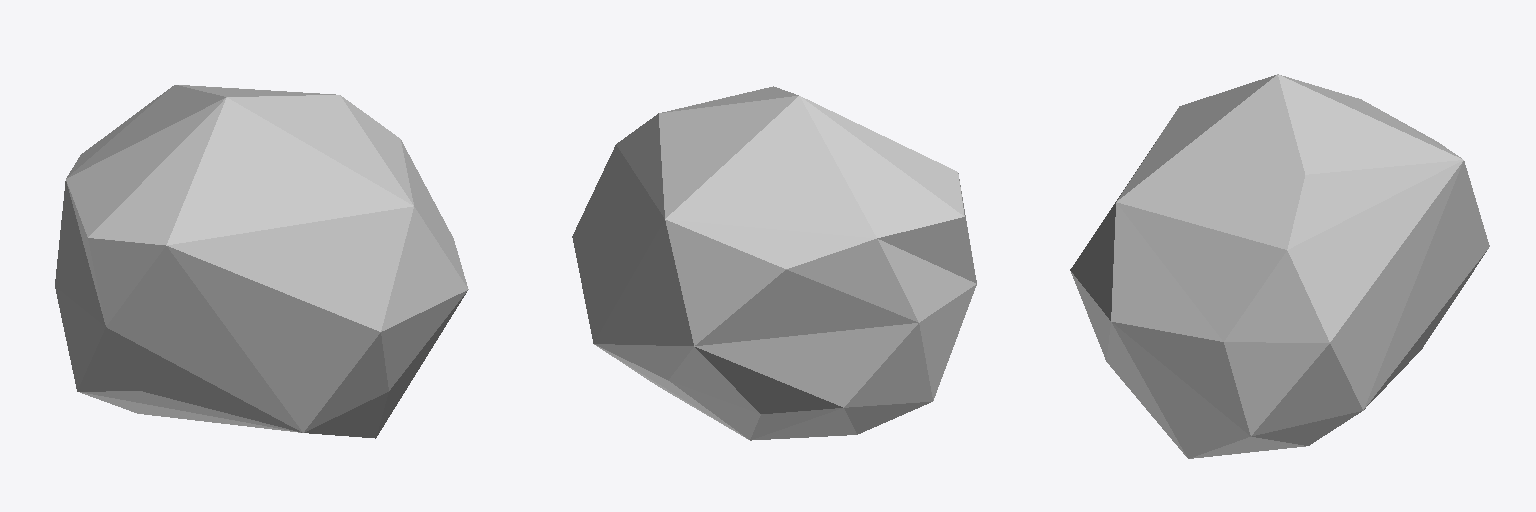
Rendered from rock1 collision.obj.
3 renders of one model, left to right at view 1: azimuth 30°, elevation 25°; view 2: azimuth 150°, elevation 25°; view 3: azimuth 270°, elevation 25°, orthographic.
Visible parts, largest first — view 1: Icosphere.001; view 2: Icosphere.001; view 3: Icosphere.001.
Boxes of the visible parts, <box> form: Icosphere.001: <box>55,85,468,438</box>; Icosphere.001: <box>572,86,976,440</box>; Icosphere.001: <box>1070,74,1489,458</box>.
Size of the model in its own units: 3.14 by 2.75 by 3.13.